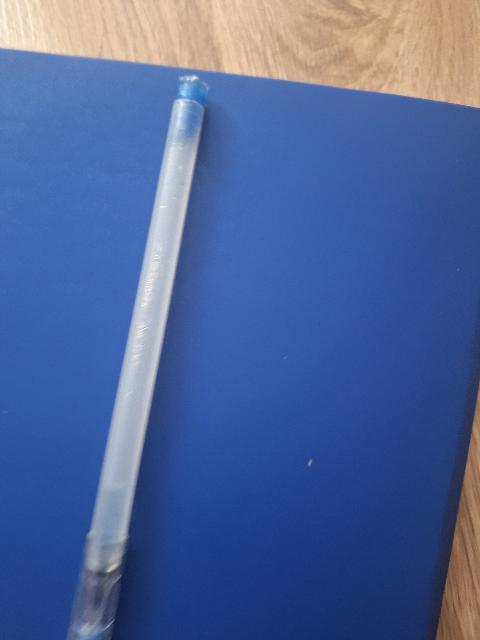writing_tool: (64, 75, 209, 637)
